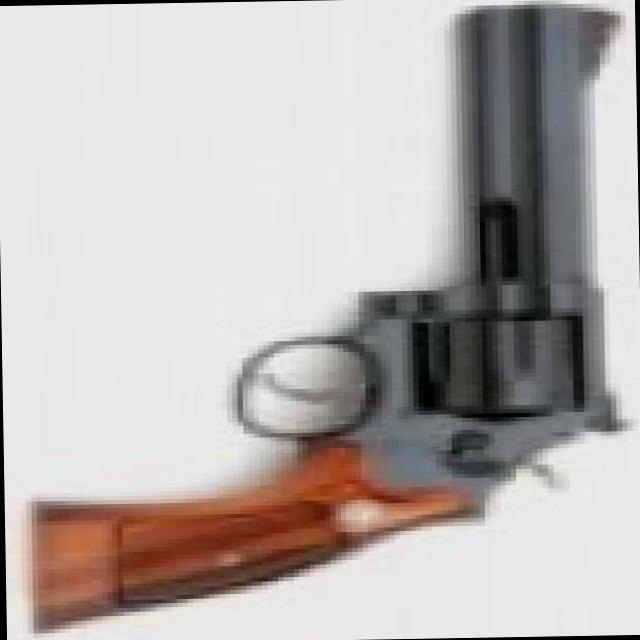handgun: (15, 0, 639, 626)
